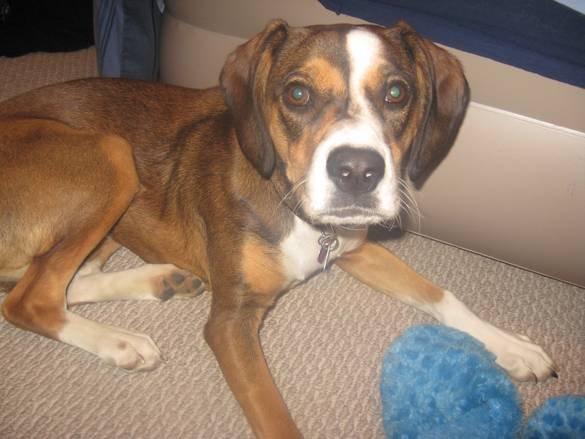dog: (10, 23, 558, 438)
